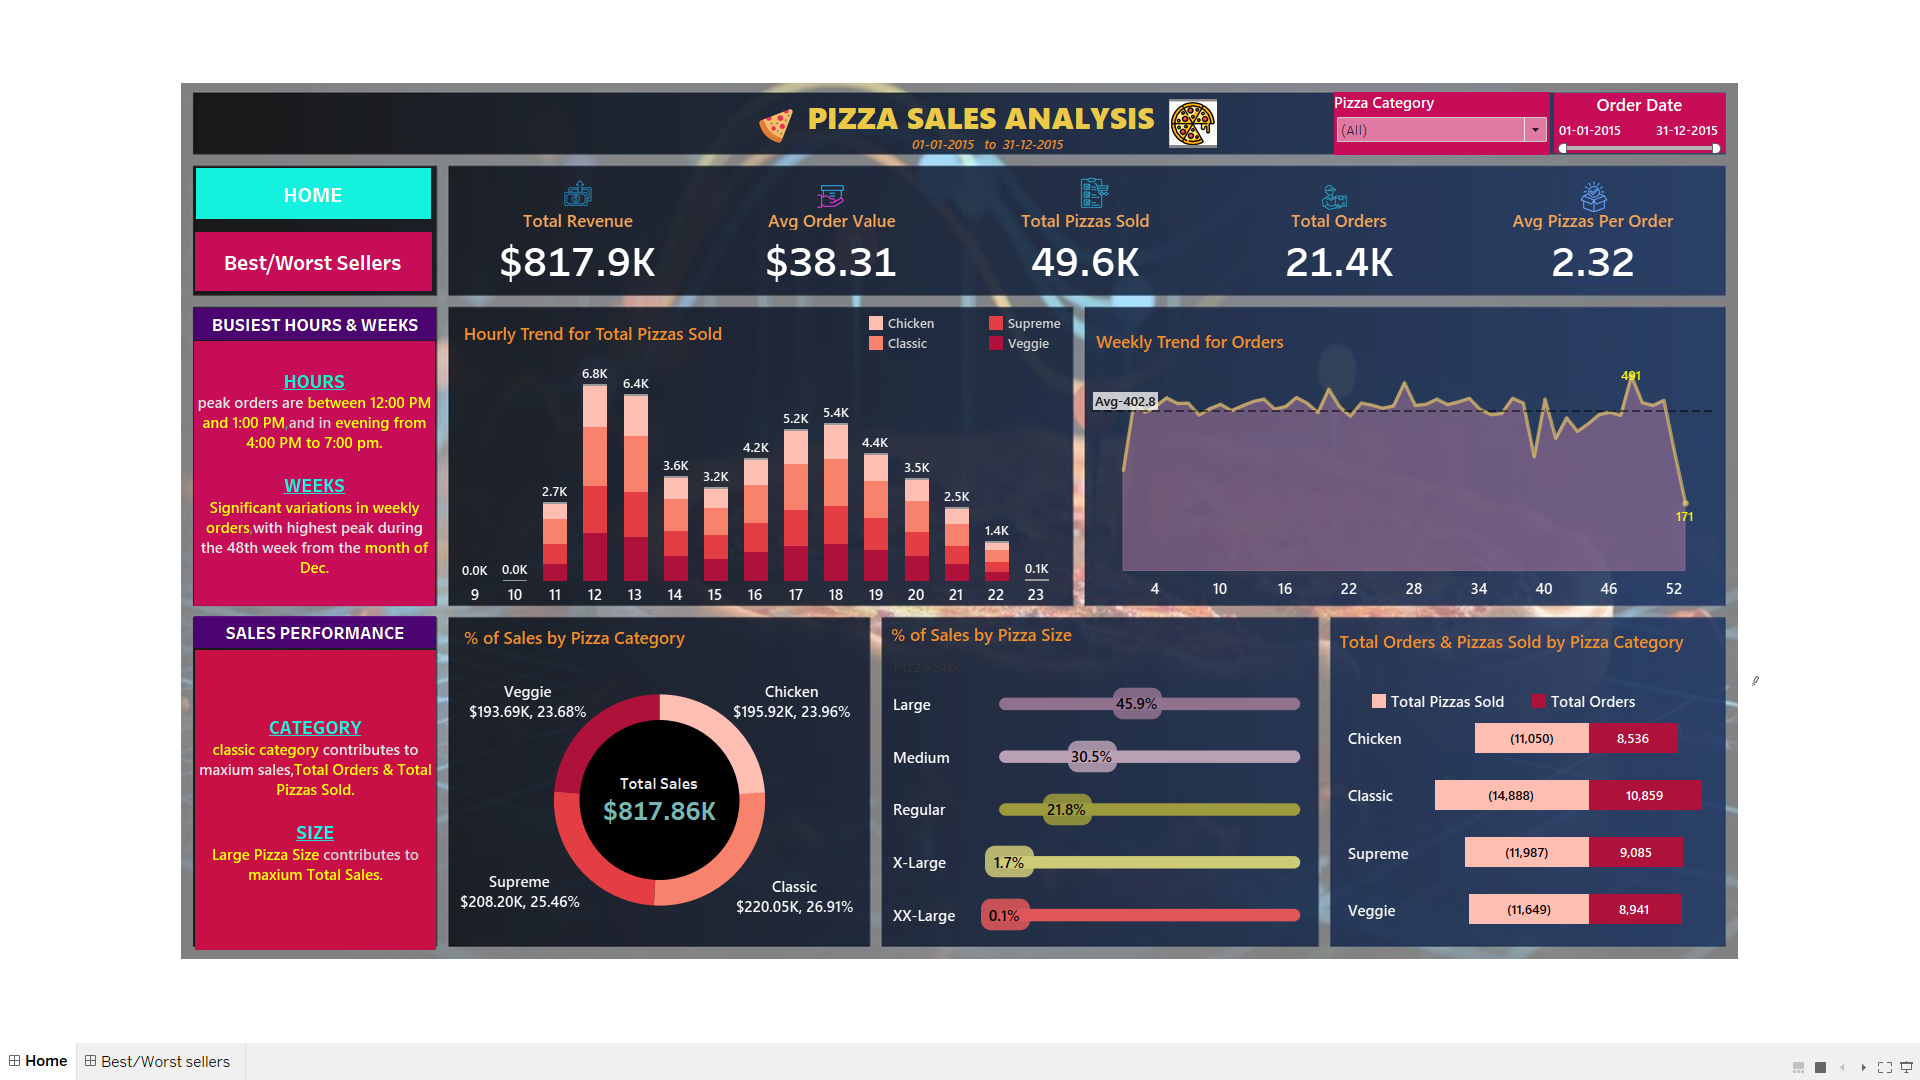

What the dashboard file says about the page in this screenshot:
{"tool":"tableau","page":{"name":"Home","canvas":[1600,900],"ordinal":1},"visuals":[{"type":"image","param":"Image/Pizza Tableau 1.jpg","box":[8,8,1584,884]},{"type":"filter","title":" Hourly Trend for Total Pizzas Sold","param":"[federated.1ifl9po009vs8s1crr14n1b4rqij].[none:PIZZA_CATEGORY:nk]","box":[1174,21,216,63]},{"type":"filter","title":" Hourly Trend for Total Pizzas Sold","param":"[federated.1ifl9po009vs8s1crr14n1b4rqij].[none:ORDER_DATE:qk]","box":[1394,22,171,60]},{"type":"text","box":[644,26,354,40]},{"type":"image","param":"Image/Screenshot (139).png","box":[1009,28,48,49]},{"type":"worksheet","title":"Sheet 7","mark":"Automatic","box":[637,32,382,67]},{"type":"image","param":"Image/pizza-slice.png","box":[589,37,53,35]},{"type":"dashboard-object","box":[37,102,232,51]},{"type":"image","param":"Image/home (1).png","box":[60,106,51,35]},{"type":"image","param":"Image/profit-growth.png","box":[377,106,81,31]},{"type":"image","param":"Image/order-delivery.png","box":[915,106,40,31]},{"type":"image","param":"Image/shipping-box.png","box":[635,110,71,30]},{"type":"image","param":"Image/order (1).png","box":[1409,110,50,31]},{"type":"image","param":"Image/delivery-man.png","box":[1151,113,46,26]},{"type":"worksheet","title":"KPI Banner","mark":"Automatic","box":[291,139,1269,81]},{"type":"dashboard-object","box":[37,162,237,59]},{"type":"image","param":"Image/choice.png","box":[40,169,32,46]},{"type":"text","box":[34,237,242,32]},{"type":"legend","title":" Hourly Trend for Total Pizzas Sold","param":"[federated.1ifl9po009vs8s1crr14n1b4rqij].[none:PIZZA_CATEGORY:nk]","box":[706,242,255,49]},{"type":"worksheet","title":" Hourly Trend for Total Pizzas Sold","mark":"Bar","rows":["Calculation_685391588354695171","Calculation_685391588354695171"],"cols":["ORDER_TIME"],"box":[295,247,602,287]},{"type":"worksheet","title":"Weekly Trend for Orders","mark":"Area","rows":["Calculation_685391588354027521","Calculation_685391588354027521"],"cols":["ORDER_DATE"],"box":[932,255,624,275]},{"type":"text","box":[34,270,241,265]},{"type":"text","box":[34,545,242,32]},{"type":"worksheet","title":"% of Sales by Pizza Size","mark":"Line","rows":["PIZZA_SIZE"],"box":[727,548,428,322]},{"type":"worksheet","title":"% of Sales by Pizza Category","mark":"Pie","rows":["Calculation_925208268951568385","Calculation_925208268951568385"],"box":[300,551,399,318]},{"type":"text","box":[1176,555,351,30]},{"type":"text","box":[35,579,241,300]},{"type":"legend","title":"Total Pizzas Sold by Pizza Category","param":"[federated.1ifl9po009vs8s1crr14n1b4rqij].[:Measure Names]","box":[1209,599,397,47]},{"type":"worksheet","title":"Total Pizzas Sold by Pizza Category","mark":"Automatic","rows":["PIZZA_CATEGORY"],"box":[1182,623,373,244]}]}

Visuals, with their boxes on the page's 1600x900 design canvas (x1, y1, x2, y2). These are canvas units, not pixel positions in the 1920x1080 screenshot, which may show the page scaled, cropped or inside an application window:
image: [8,8,1592,892]
" Hourly Trend for Total Pizzas Sold" filter: [1174,21,1390,84]
" Hourly Trend for Total Pizzas Sold" filter: [1394,22,1565,82]
text: [644,26,998,66]
image: [1009,28,1057,77]
"Sheet 7" worksheet: [637,32,1019,99]
image: [589,37,642,72]
dashboard-object: [37,102,269,153]
image: [60,106,111,141]
image: [377,106,458,137]
image: [915,106,955,137]
image: [635,110,706,140]
image: [1409,110,1459,141]
image: [1151,113,1197,139]
"KPI Banner" worksheet: [291,139,1560,220]
dashboard-object: [37,162,274,221]
image: [40,169,72,215]
text: [34,237,276,269]
" Hourly Trend for Total Pizzas Sold" legend: [706,242,961,291]
" Hourly Trend for Total Pizzas Sold" worksheet (Bar marks): [295,247,897,534]
"Weekly Trend for Orders" worksheet (Area marks): [932,255,1556,530]
text: [34,270,275,535]
text: [34,545,276,577]
"% of Sales by Pizza Size" worksheet (Line marks): [727,548,1155,870]
"% of Sales by Pizza Category" worksheet (Pie marks): [300,551,699,869]
text: [1176,555,1527,585]
text: [35,579,276,879]
"Total Pizzas Sold by Pizza Category" legend: [1209,599,1606,646]
"Total Pizzas Sold by Pizza Category" worksheet: [1182,623,1555,867]
